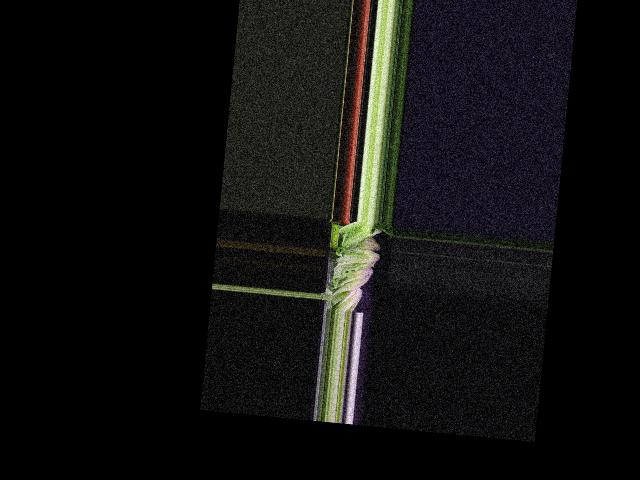lettuce: (332, 283, 363, 313)
